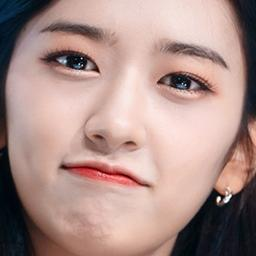winterCool: (6, 2, 242, 250)
